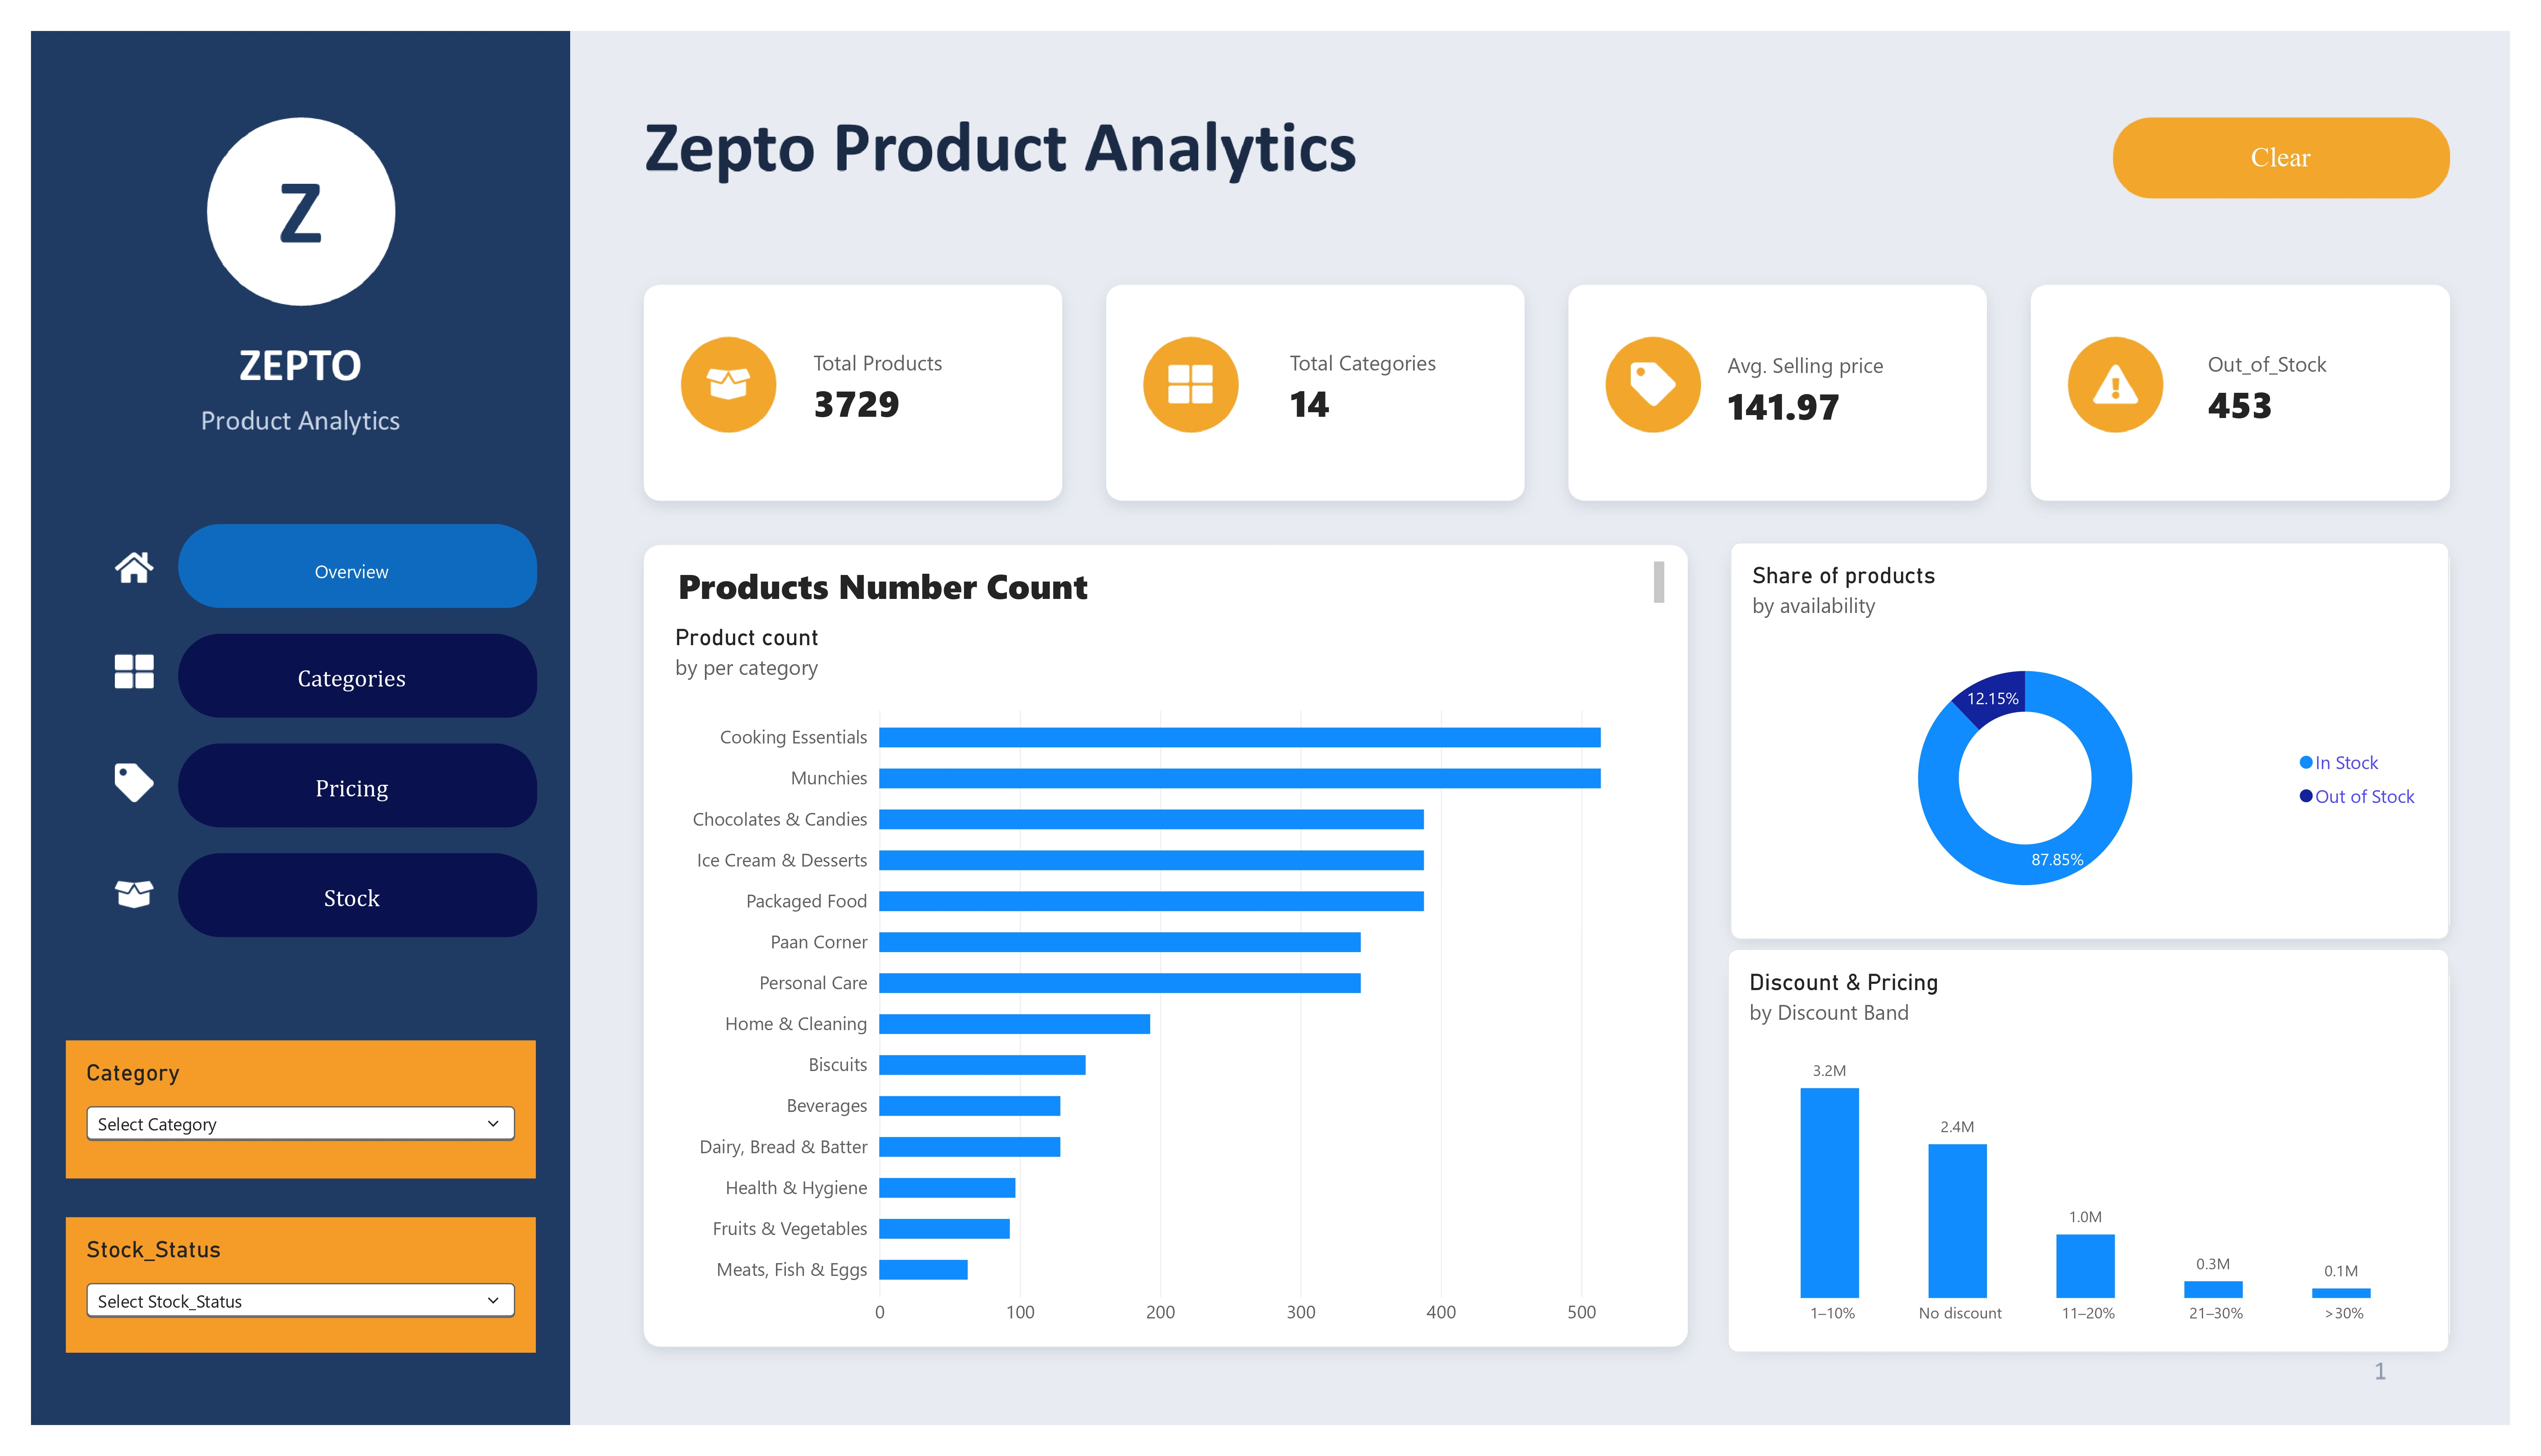

This screenshot's page, from the dashboard's own definition file:
{"tool":"powerbi","page":{"name":"Overview","canvas":[1920,1080],"ordinal":0},"visuals":[{"type":"cardVisual","fields":{"Data":["Count(zepto_cleaned.product_id)"]},"box":[589.9,211.7,172,129],"z":0},{"type":"cardVisual","fields":{"Data":["Count(zepto_cleaned.category)"]},"box":[959.1,226.2,157.4,101.3],"z":1000},{"type":"cardVisual","fields":{"Data":["Sum(zepto_cleaned.out_of_stock)"]},"box":[1670.3,213.5,143,128.5],"z":2000},{"type":"donutChart","fields":{"Category":["zepto_cleaned.stock_status"],"Y":["CountNonNull(zepto_cleaned.product_id)"]},"box":[1315.6,396.3,557.4,307.6],"z":3000},{"type":"clusteredBarChart","fields":{"Category":["zepto_cleaned.category"],"Y":["CountNonNull(zepto_cleaned.product_id)"]},"box":[483.2,445.2,799.9,579.1],"z":4000},{"type":"clusteredColumnChart","fields":{"Category":["zepto_cleaned.Discount Band"],"Y":["Sum(zepto_cleaned.product_id)"]},"box":[1313.8,711.2,559.2,313.1],"z":5000},{"type":"actionButton","box":[1612.4,65.1,260.6,68.8],"z":6000},{"type":"pageNavigator","box":[114,382,278,322],"z":7000},{"type":"listSlicer","fields":{"Values":["zepto_cleaned.category"]},"box":[27.1,781.8,363.7,106.8],"z":8000},{"type":"listSlicer","fields":{"Values":["zepto_cleaned.stock_status"]},"box":[27.1,919.3,363.7,105],"z":9000},{"type":"cardVisual","fields":{"Data":["Avg(zepto_cleaned.discounted_selling_price)"]},"box":[1297.5,215.3,202.7,126.7],"z":10000},{"type":"textbox","box":[501.3,410.8,763.7,34.4],"z":10001}]}

Visuals, with their boxes on the page's 1920x1080 design canvas (x1, y1, x2, y2). These are canvas units, not pixel positions in the 2541x1456 screenshot, which may show the page scaled, cropped or inside an application window:
cardVisual - Count(zepto_cleaned.product_id): (x1=590, y1=212, x2=762, y2=341)
cardVisual - Count(zepto_cleaned.category): (x1=959, y1=226, x2=1116, y2=328)
cardVisual - Sum(zepto_cleaned.out_of_stock): (x1=1670, y1=214, x2=1813, y2=342)
donutChart - zepto_cleaned.stock_status x CountNonNull(zepto_cleaned.product_id): (x1=1316, y1=396, x2=1873, y2=704)
clusteredBarChart - zepto_cleaned.category x CountNonNull(zepto_cleaned.product_id): (x1=483, y1=445, x2=1283, y2=1024)
clusteredColumnChart - zepto_cleaned.Discount Band x Sum(zepto_cleaned.product_id): (x1=1314, y1=711, x2=1873, y2=1024)
actionButton: (x1=1612, y1=65, x2=1873, y2=134)
pageNavigator: (x1=114, y1=382, x2=392, y2=704)
listSlicer - zepto_cleaned.category: (x1=27, y1=782, x2=391, y2=889)
listSlicer - zepto_cleaned.stock_status: (x1=27, y1=919, x2=391, y2=1024)
cardVisual - Avg(zepto_cleaned.discounted_selling_price): (x1=1298, y1=215, x2=1500, y2=342)
textbox: (x1=501, y1=411, x2=1265, y2=445)
